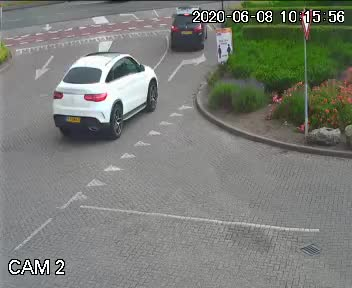car: (33, 37, 163, 146), (164, 1, 214, 63)
